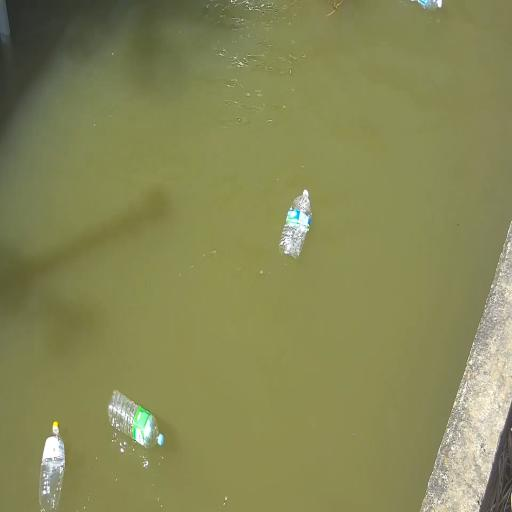plastic: (107, 388, 164, 450), (37, 420, 66, 512), (278, 190, 311, 261), (406, 0, 442, 10)
